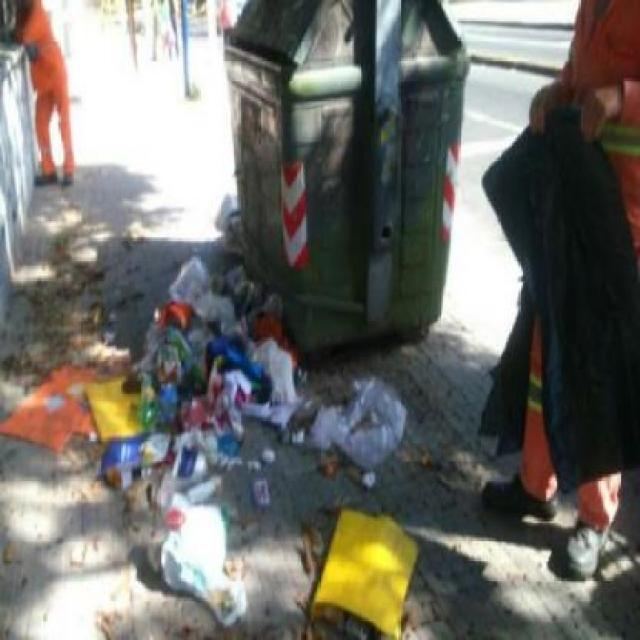garbage: (8, 259, 432, 638), (211, 183, 246, 232)
